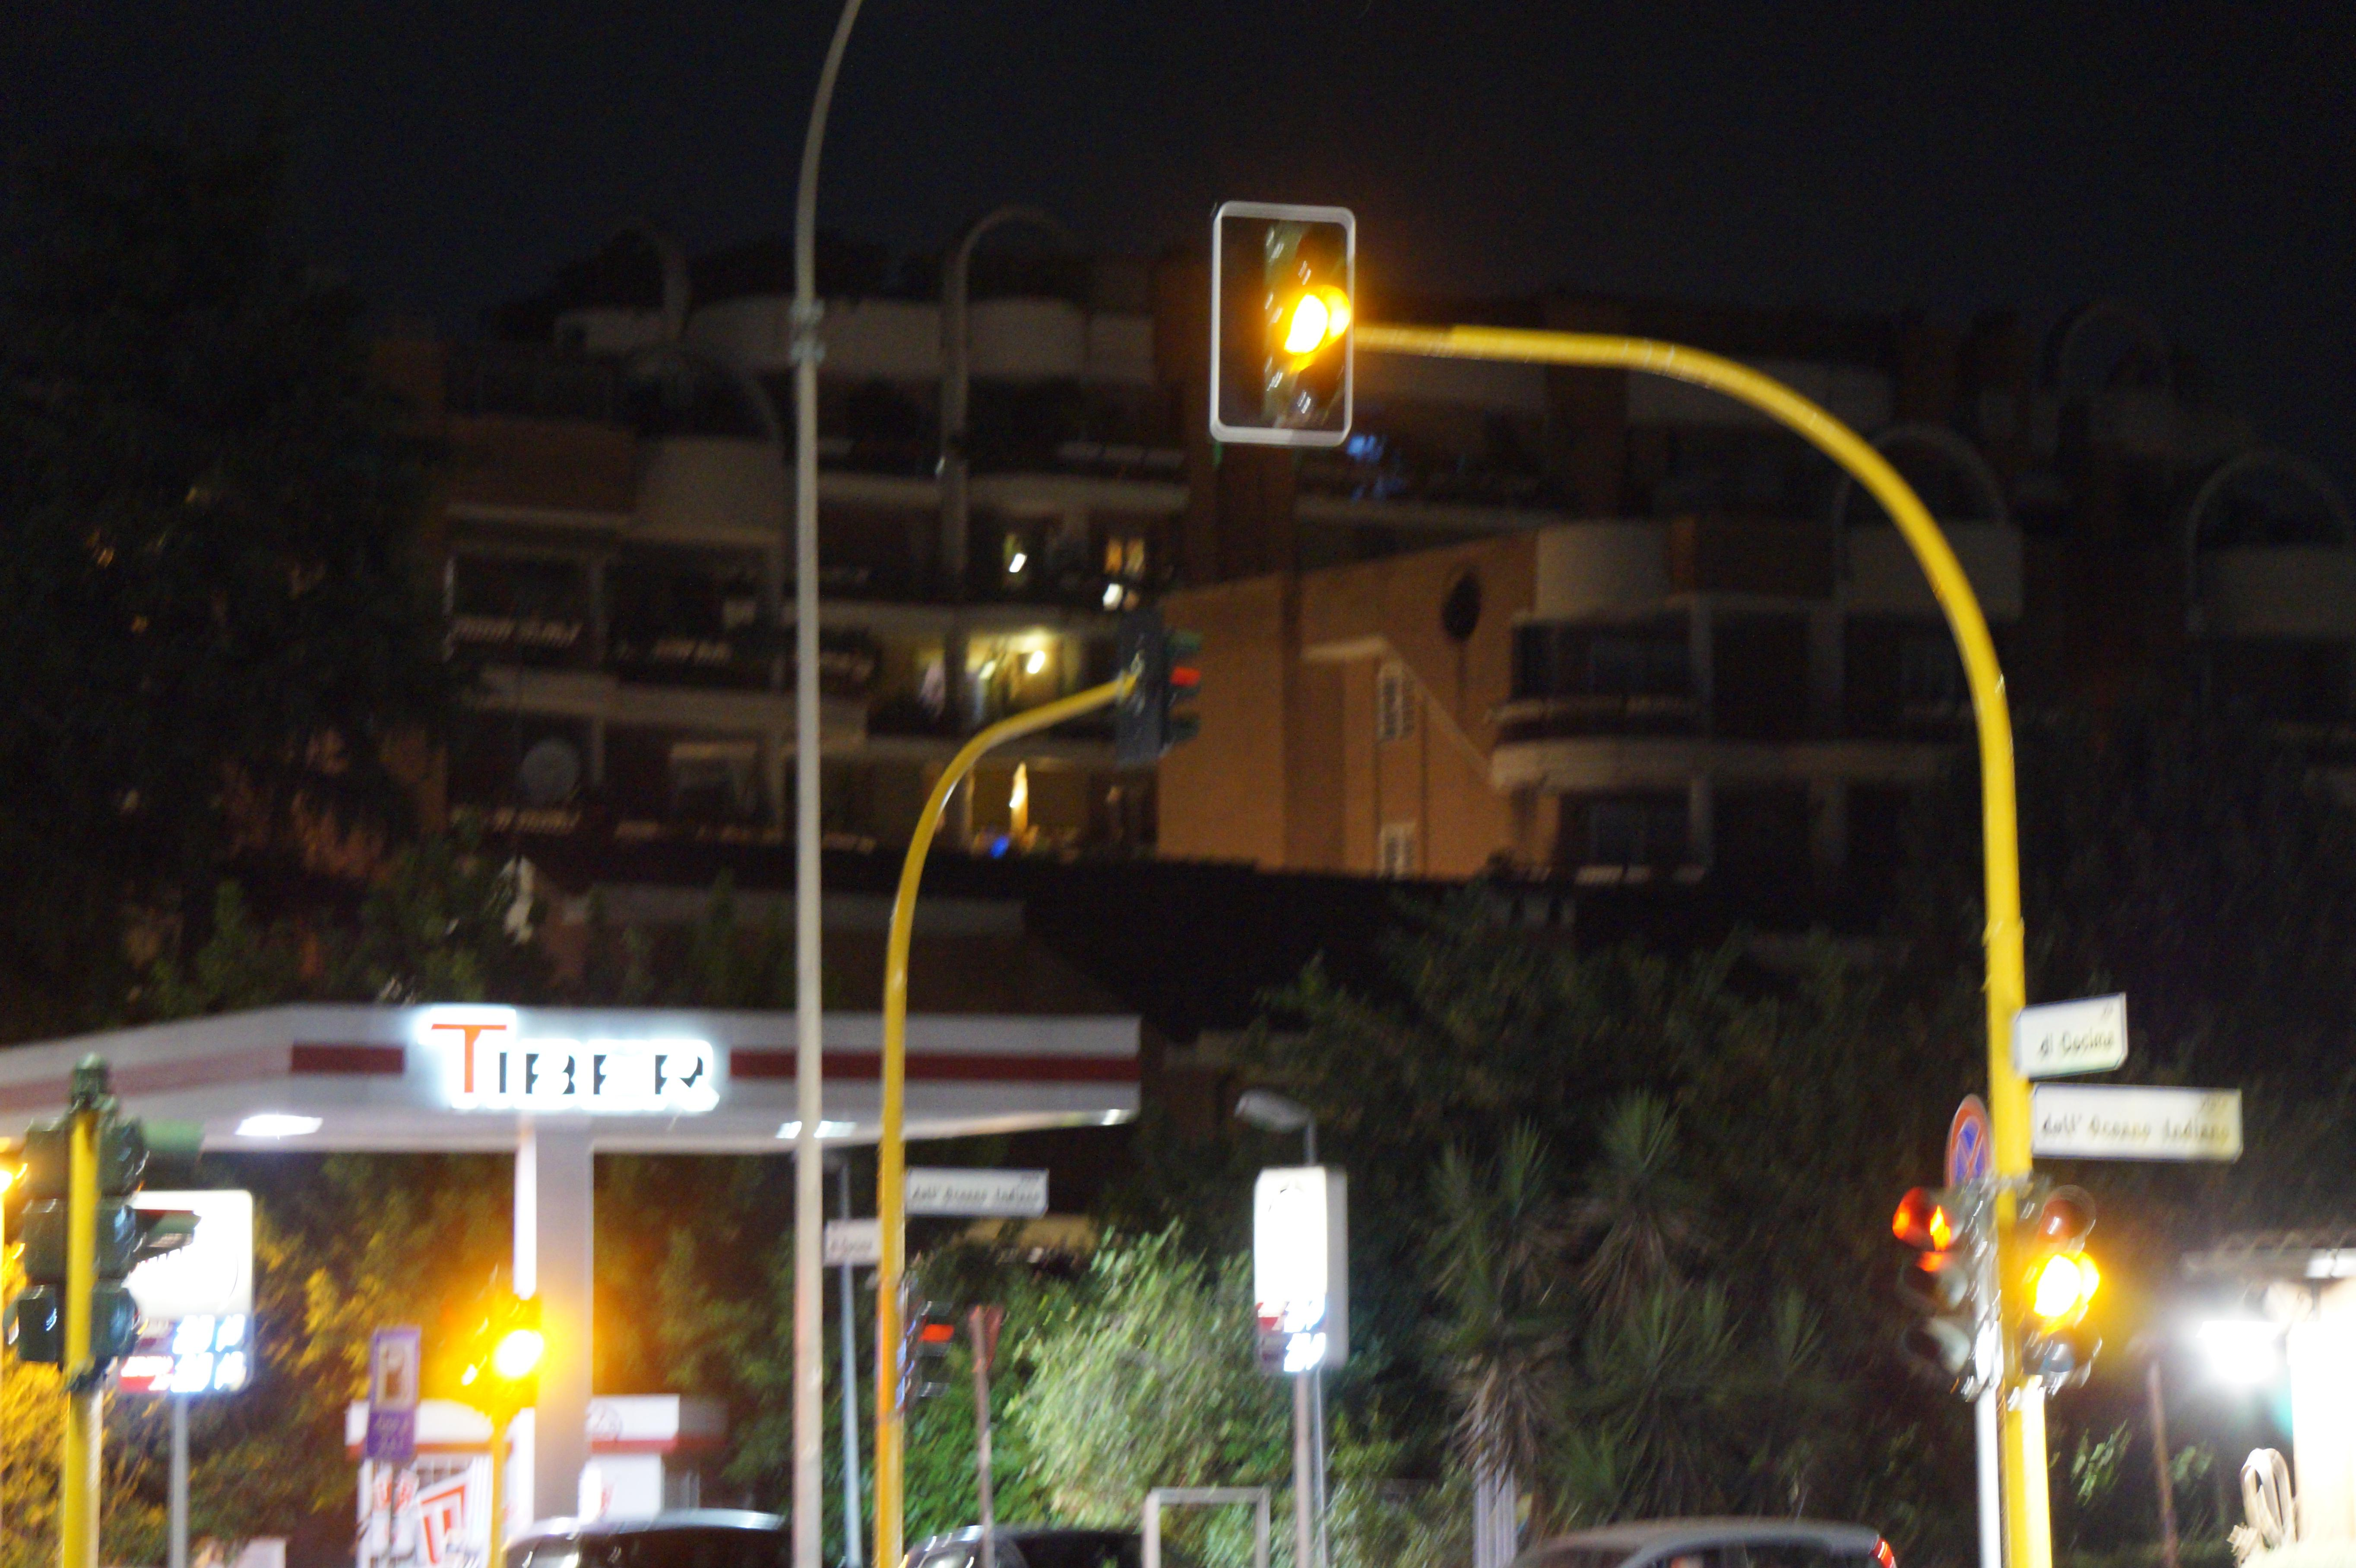yellow_light: (1211, 201, 1358, 445), (2008, 1183, 2100, 1379)
